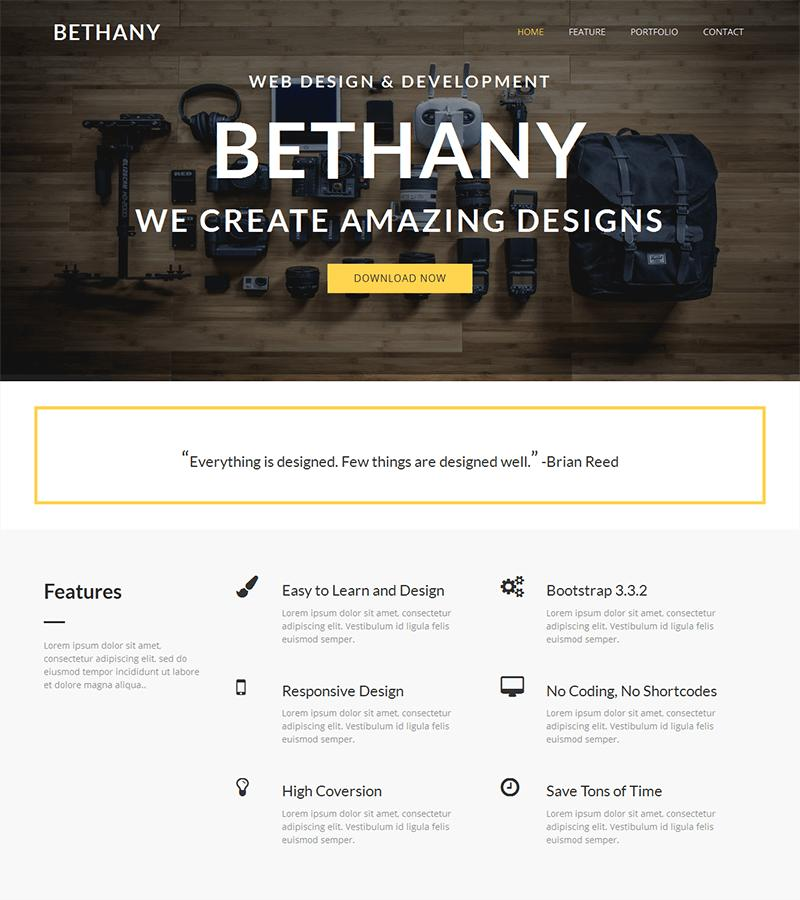button: (326, 260, 476, 298)
